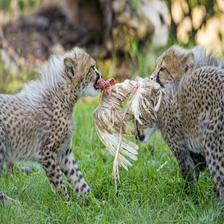Cheetah: (0, 45, 106, 209), (131, 66, 224, 213), (148, 45, 224, 210)
